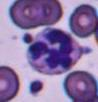N: (28, 28, 81, 74)
